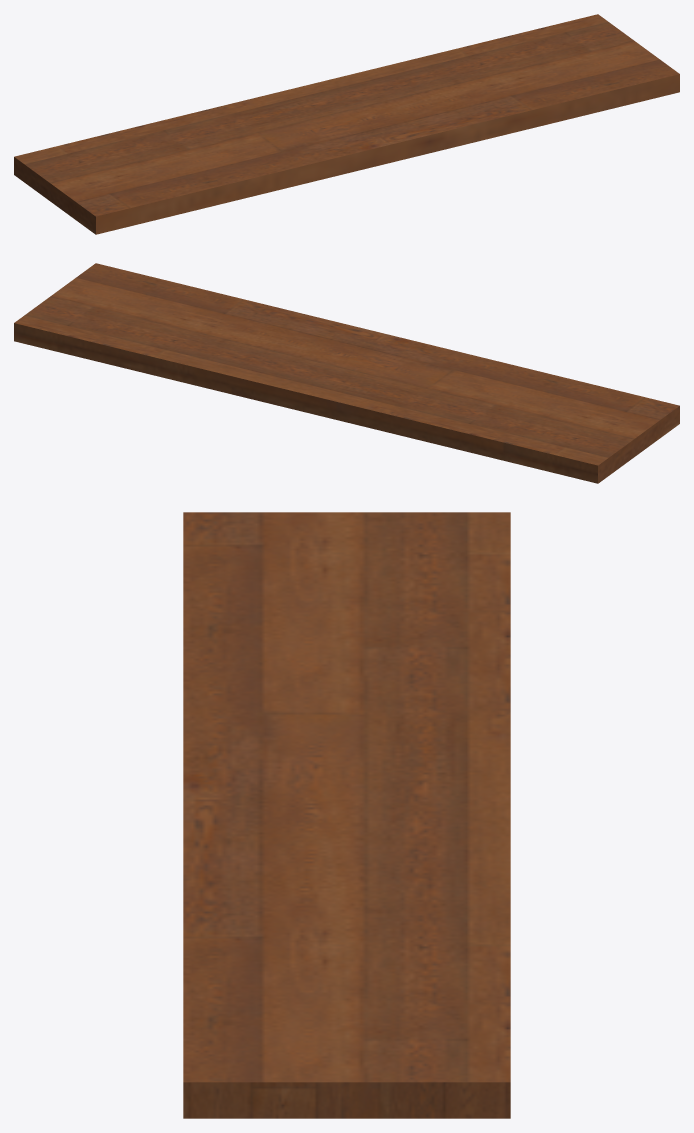
File: Floor_Inside_Part5.fbx
3 views of the same model, one above another, from view 1: azimuth 30°, elevation 25°; view 2: azimuth 150°, elevation 25°; view 3: azimuth 270°, elevation 25° (orthographic). The views are drawn at different scales.
Parts seen in each view (by area): view 1: Floor_Inside_Part5; view 2: Floor_Inside_Part5; view 3: Floor_Inside_Part5.
Part boxes in pixels (<box>): Floor_Inside_Part5: <box>14,14,679,234</box>; Floor_Inside_Part5: <box>14,263,679,483</box>; Floor_Inside_Part5: <box>183,512,510,1118</box>.
Size of the model in its own units: 384 by 11.44 by 93.2.
